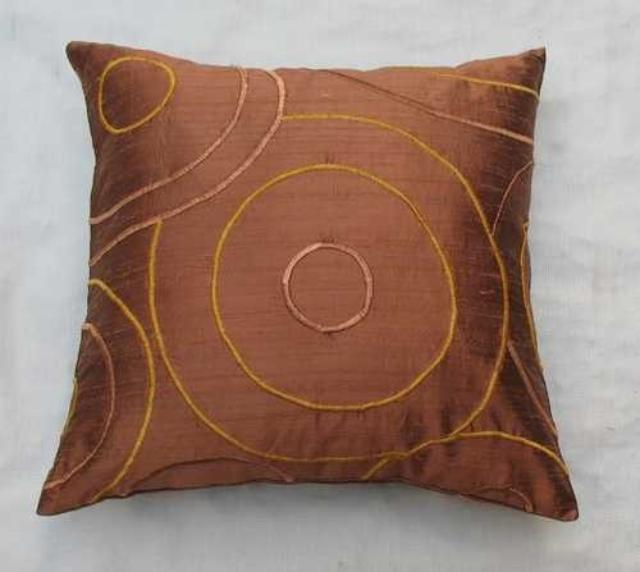pillow: (35, 38, 579, 522)
